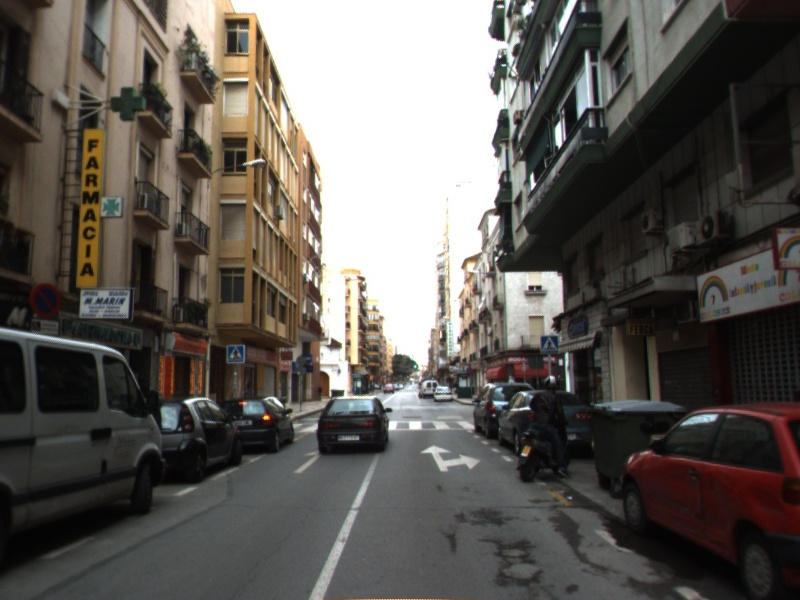STRAIGHT: (291, 449, 324, 475)
STRAIGHT_RIGHT: (419, 443, 482, 474)
